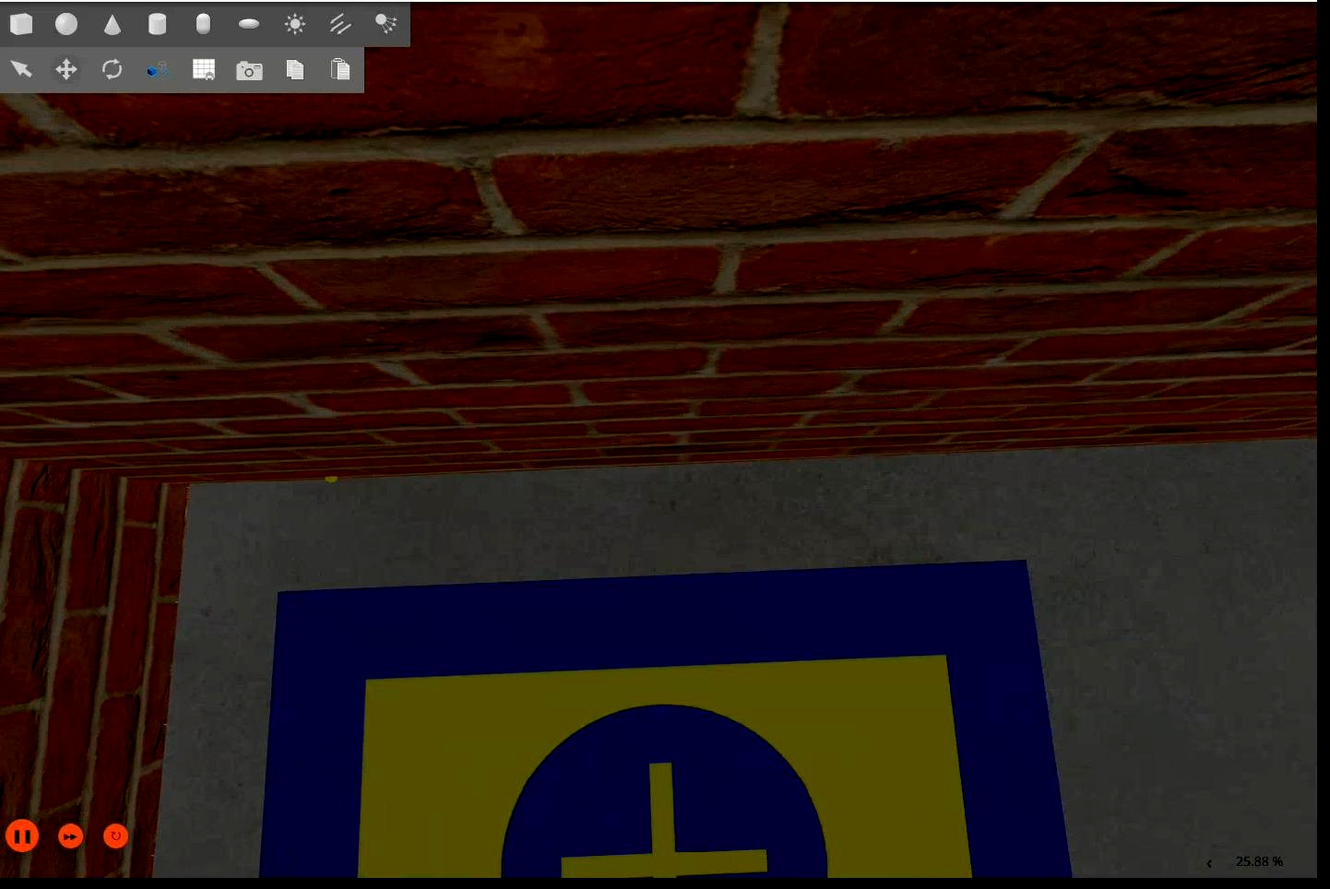large_base: (261, 561, 1071, 883)
